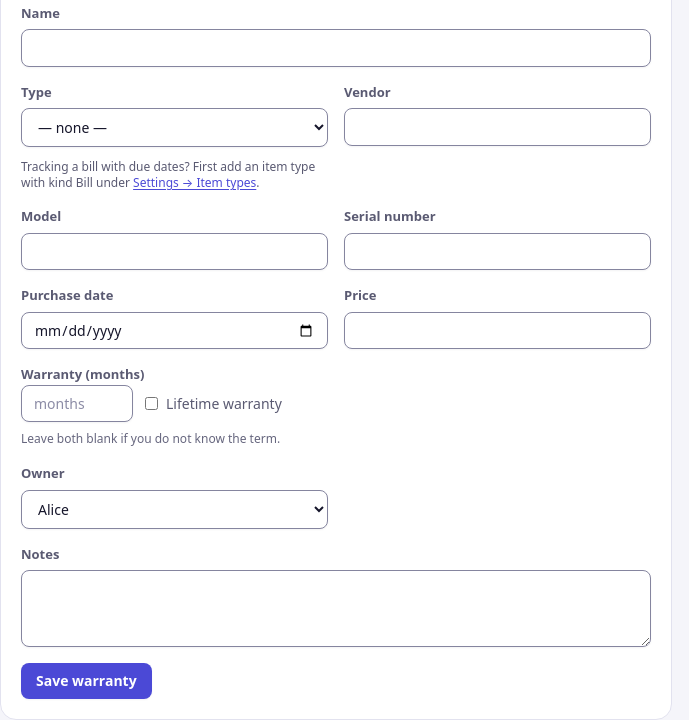
Test: NewWarrantyClient › disables and clears the months input when Lifetime is ticked (MUST-3.5)
The image size is (689, 720).
(page scrolled)
In the number field named "warrantyMonths": (77, 404) x1=21 y1=385 x2=133 y2=422, type "24"
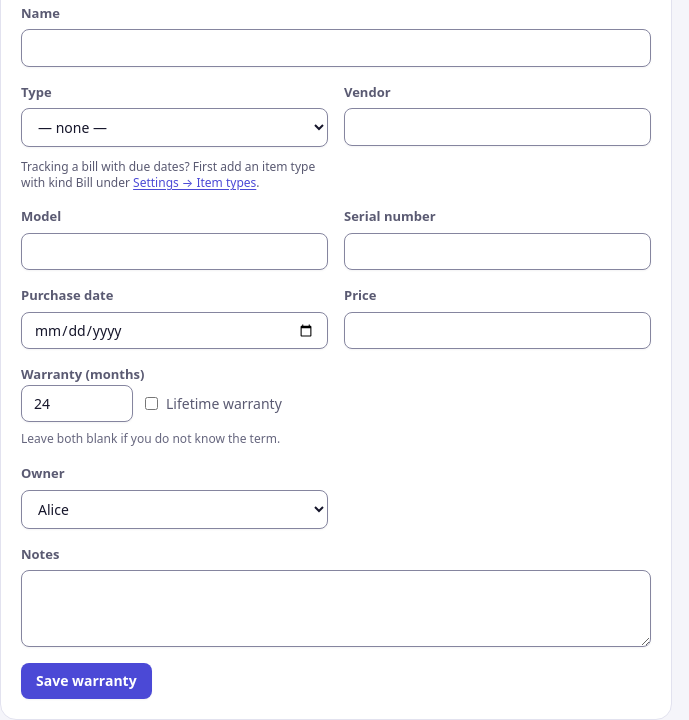
Click the checkbox named "isLifetime": (152, 404) x1=145 y1=397 x2=158 y2=410
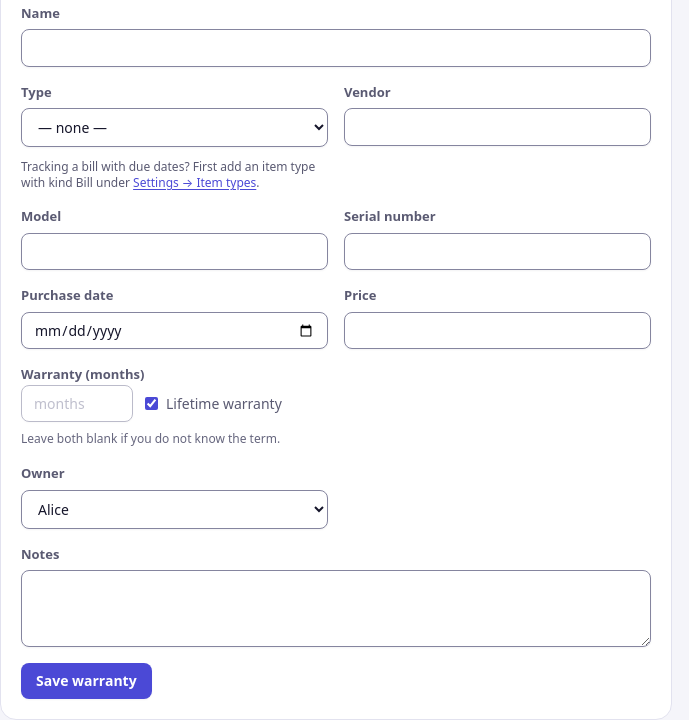
Expected: the number field named "warrantyMonths" is disabled, x1=21 y1=385 x2=133 y2=422
Expected: the number field named "warrantyMonths" is empty, x1=21 y1=385 x2=133 y2=422
